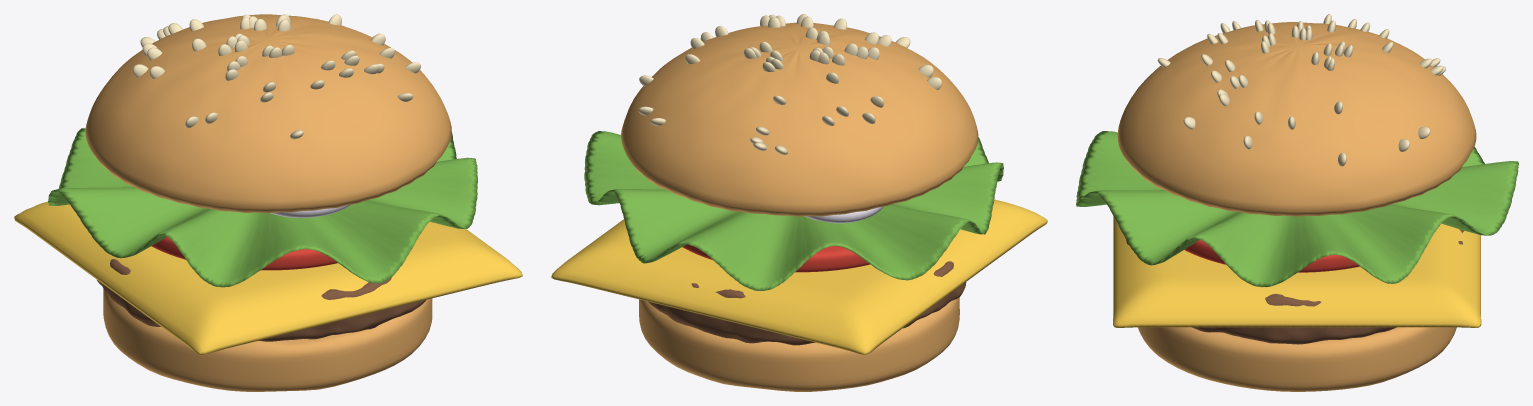
Rendered from burger.glb.
3 views of the same model, side by side, from view 1: azimuth 30°, elevation 25°; view 2: azimuth 150°, elevation 25°; view 3: azimuth 270°, elevation 25° (orthographic). The views are drawn at different scales.
Visible parts, largest first — view 1: BunTop, Lettuce, Cheese, BunBottom, Seeds, Patty, Tomato, Onion; view 2: BunTop, Lettuce, Cheese, BunBottom, Seeds, Patty, Tomato, Onion; view 3: BunTop, Lettuce, Cheese, BunBottom, Seeds, Patty, Tomato.
Boxes of the visible parts, x1,y1,x2,y2 form: BunTop: [85, 14, 451, 213]; Lettuce: [48, 128, 477, 287]; Cheese: [14, 201, 522, 355]; BunBottom: [103, 289, 432, 391]; Seeds: [132, 14, 420, 139]; Patty: [97, 259, 425, 341]; Tomato: [151, 237, 337, 270]; Onion: [270, 204, 350, 217]; BunTop: [621, 22, 978, 216]; Lettuce: [584, 131, 1003, 290]; Cheese: [551, 199, 1047, 354]; BunBottom: [639, 297, 959, 391]; Seeds: [638, 14, 941, 154]; Patty: [648, 261, 966, 345]; Tomato: [682, 244, 870, 272]; Onion: [805, 206, 883, 223]; BunTop: [1117, 22, 1476, 216]; Lettuce: [1076, 131, 1518, 287]; Cheese: [1113, 216, 1481, 327]; BunBottom: [1138, 327, 1456, 391]; Seeds: [1157, 14, 1445, 166]; Patty: [1126, 229, 1463, 344]; Tomato: [1184, 224, 1440, 272].
Bounding box in the file's own units: 2.65 × 1.97 × 2.72.
